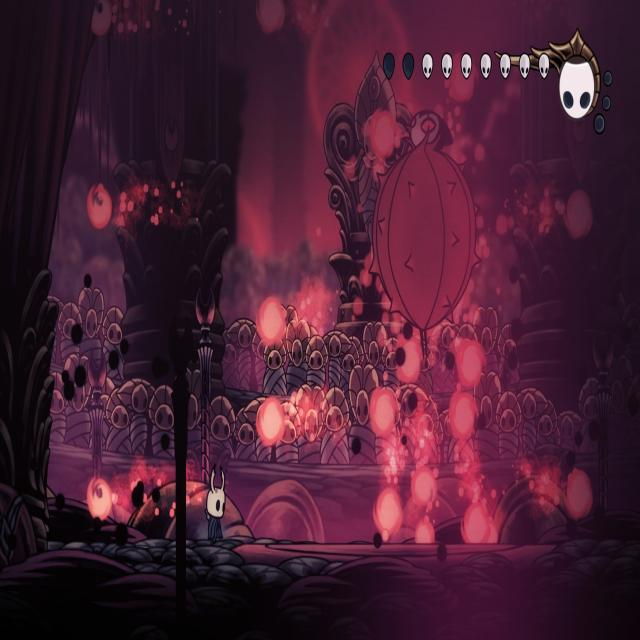Player: (201, 460, 229, 544)
Pufferfish: (364, 103, 487, 380)
Tiny Fireballs: (367, 111, 398, 165), (373, 489, 402, 541), (368, 388, 396, 438), (257, 397, 285, 447), (566, 190, 593, 240), (566, 470, 593, 520), (455, 339, 483, 387), (258, 298, 285, 346), (448, 392, 475, 440), (460, 502, 490, 544), (394, 336, 419, 383), (87, 184, 112, 230), (87, 477, 111, 520), (412, 468, 436, 508), (258, 0, 286, 33), (90, 0, 111, 37), (415, 519, 433, 544)
